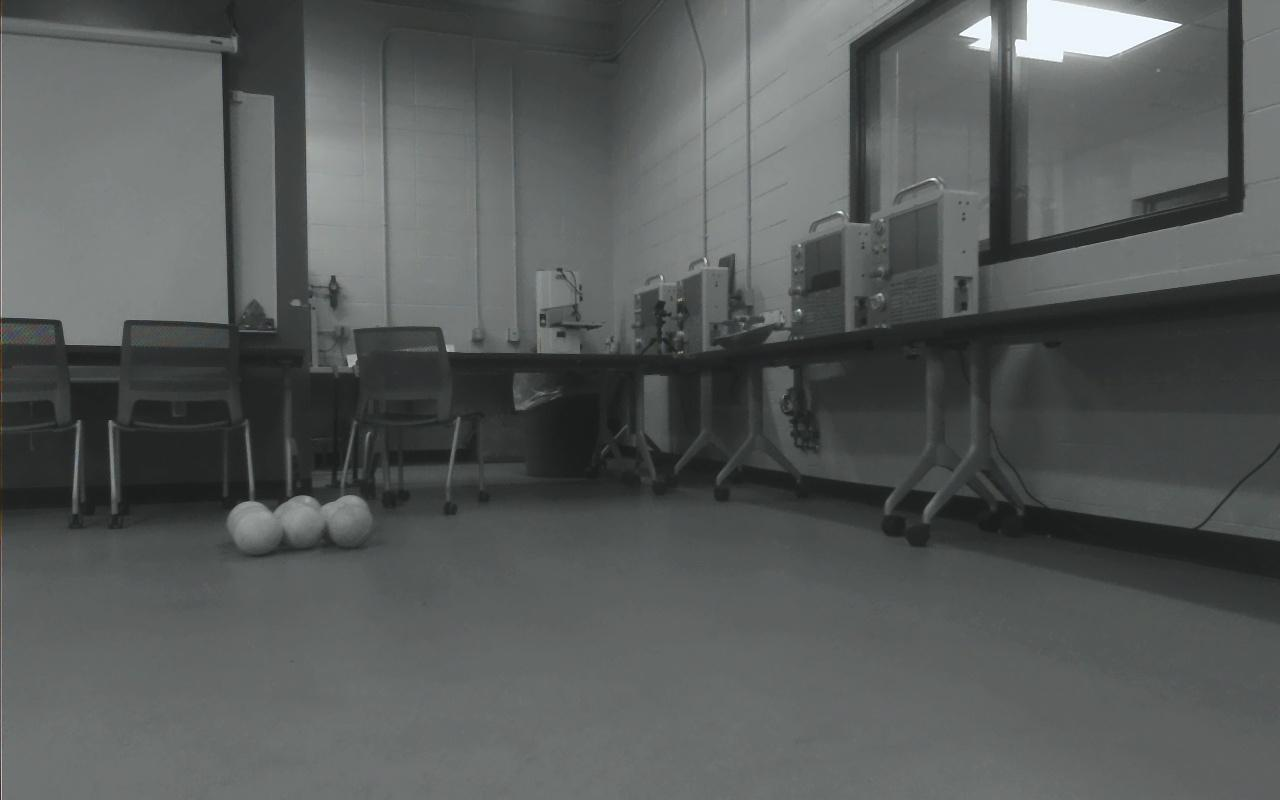Fuel: (234, 510, 283, 555), (325, 502, 372, 548), (278, 504, 326, 549), (228, 500, 274, 540), (230, 506, 273, 545), (272, 501, 311, 540), (331, 494, 371, 530), (283, 494, 321, 529), (316, 502, 346, 536)
